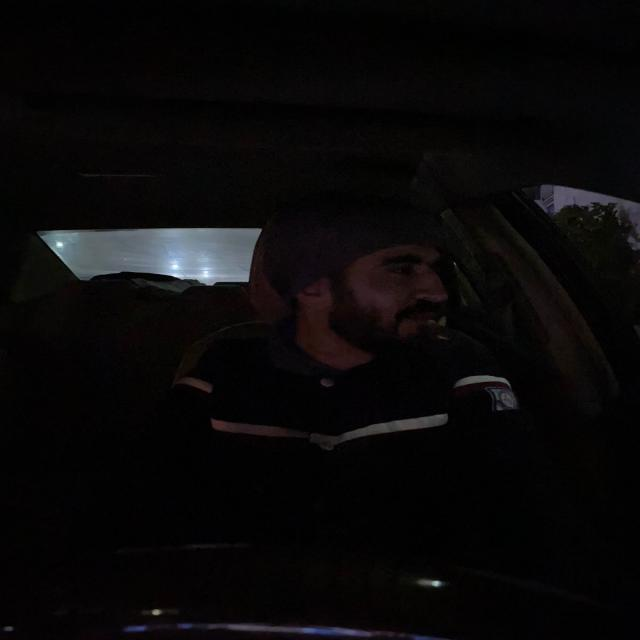LeftRight: (264, 207, 461, 346)
